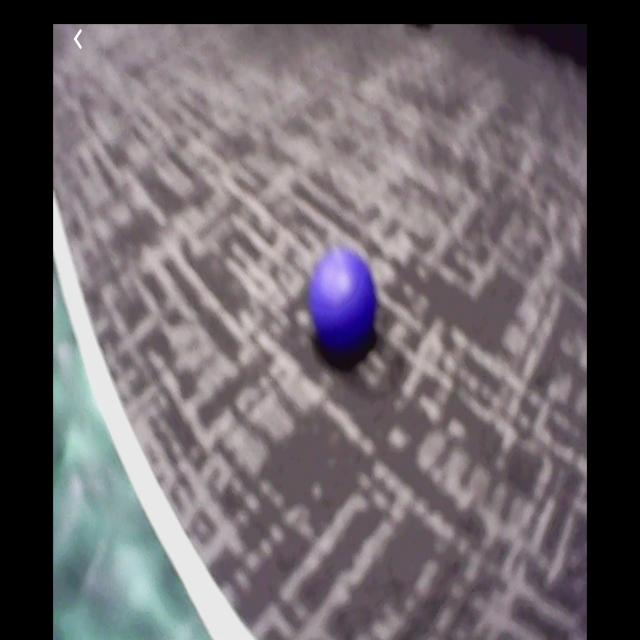ball: (306, 248, 379, 356)
